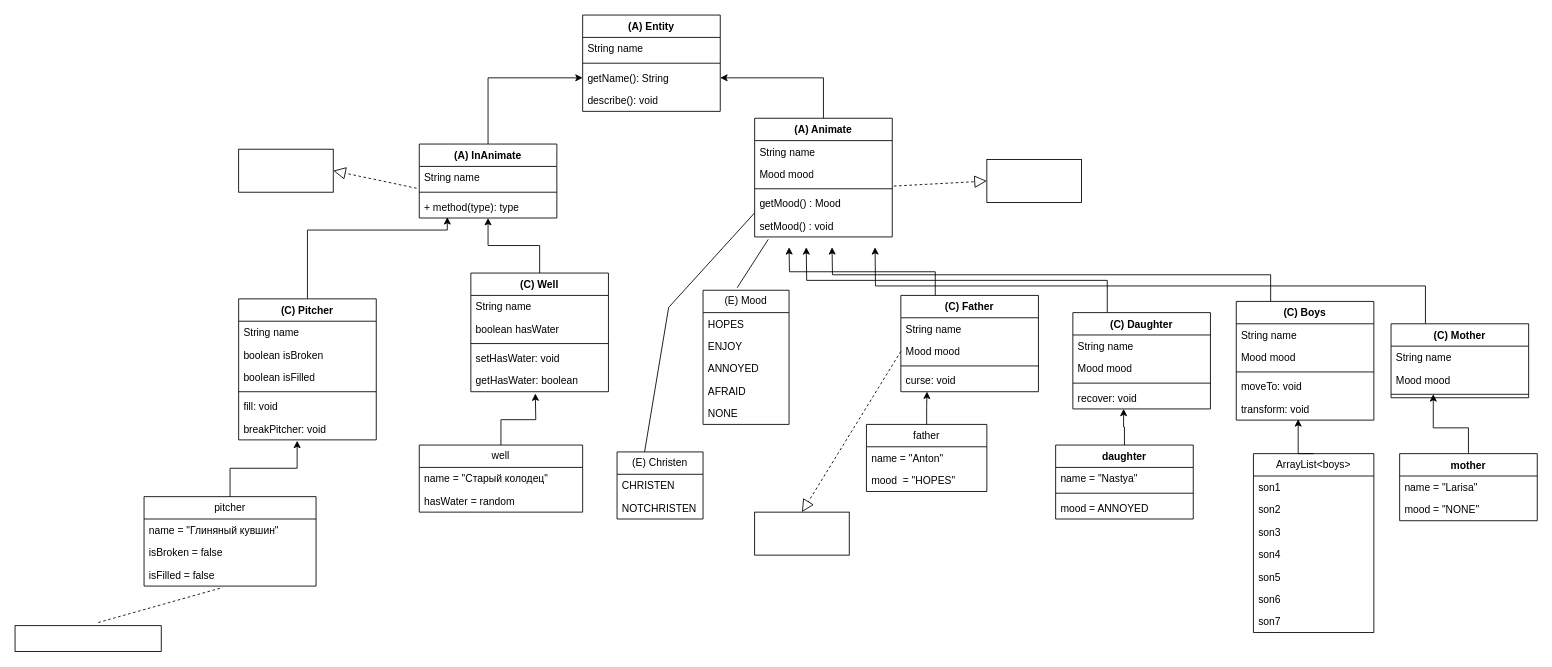
Some shapes in this 1552 by 667 pixel diagram are drawn without their labels. The shapes that lost their labels are listed below. From the top down, each one's centre as x and y in pixels, then its label:
At (x=285, y=170): "«Interactable» Interact: void".
At (x=1033, y=181): "«Actionable» Act: void".
At (x=801, y=533): "«Christening» Christen: void".
At (x=87, y=638): "«Exception» PitcherBrokenException".
